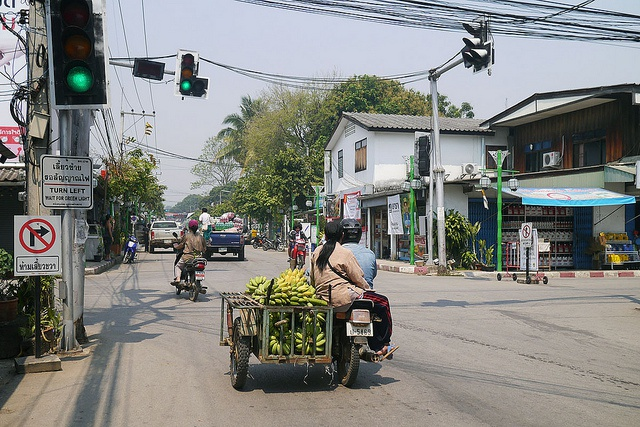non-vehicle: (334, 296, 385, 393), (171, 230, 208, 303), (286, 239, 305, 271), (122, 230, 140, 263), (261, 232, 284, 252), (252, 236, 263, 249)
